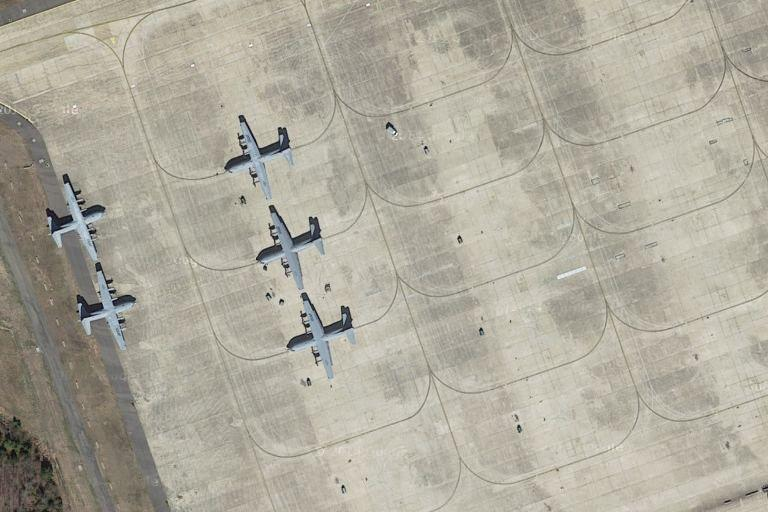C-130: (284, 297, 357, 382), (256, 207, 326, 289), (223, 120, 292, 201), (44, 179, 107, 262), (75, 266, 137, 350)
